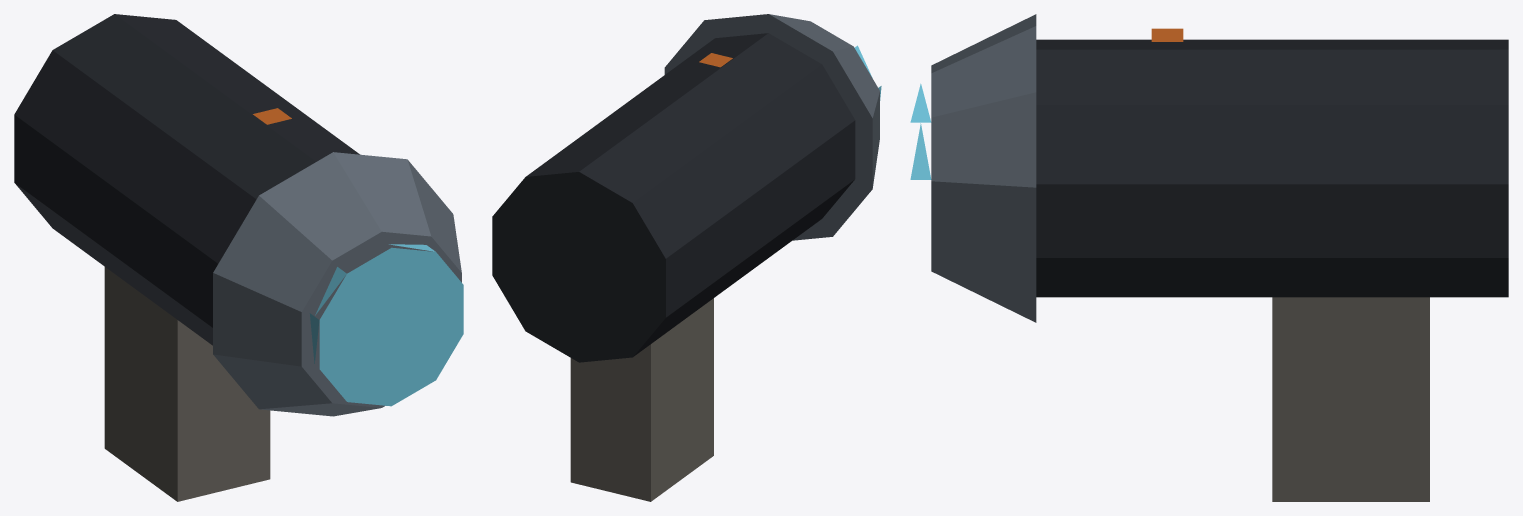
File: holorecorder.lod.glb
The picture shows the model from 3 angles, left to right: view 1: azimuth 30°, elevation 25°; view 2: azimuth 150°, elevation 25°; view 3: azimuth 270°, elevation 25°; orthographic projection. The views are drawn at different scales.
Visible parts, largest first — view 1: m; view 2: m; view 3: m.
Part boxes in pixels (<box>): m: <box>14,14,463,501</box>; m: <box>492,14,881,501</box>; m: <box>910,14,1508,501</box>.
Bounding box in the file's own units: 0.0651 × 0.1083 × 0.13.
